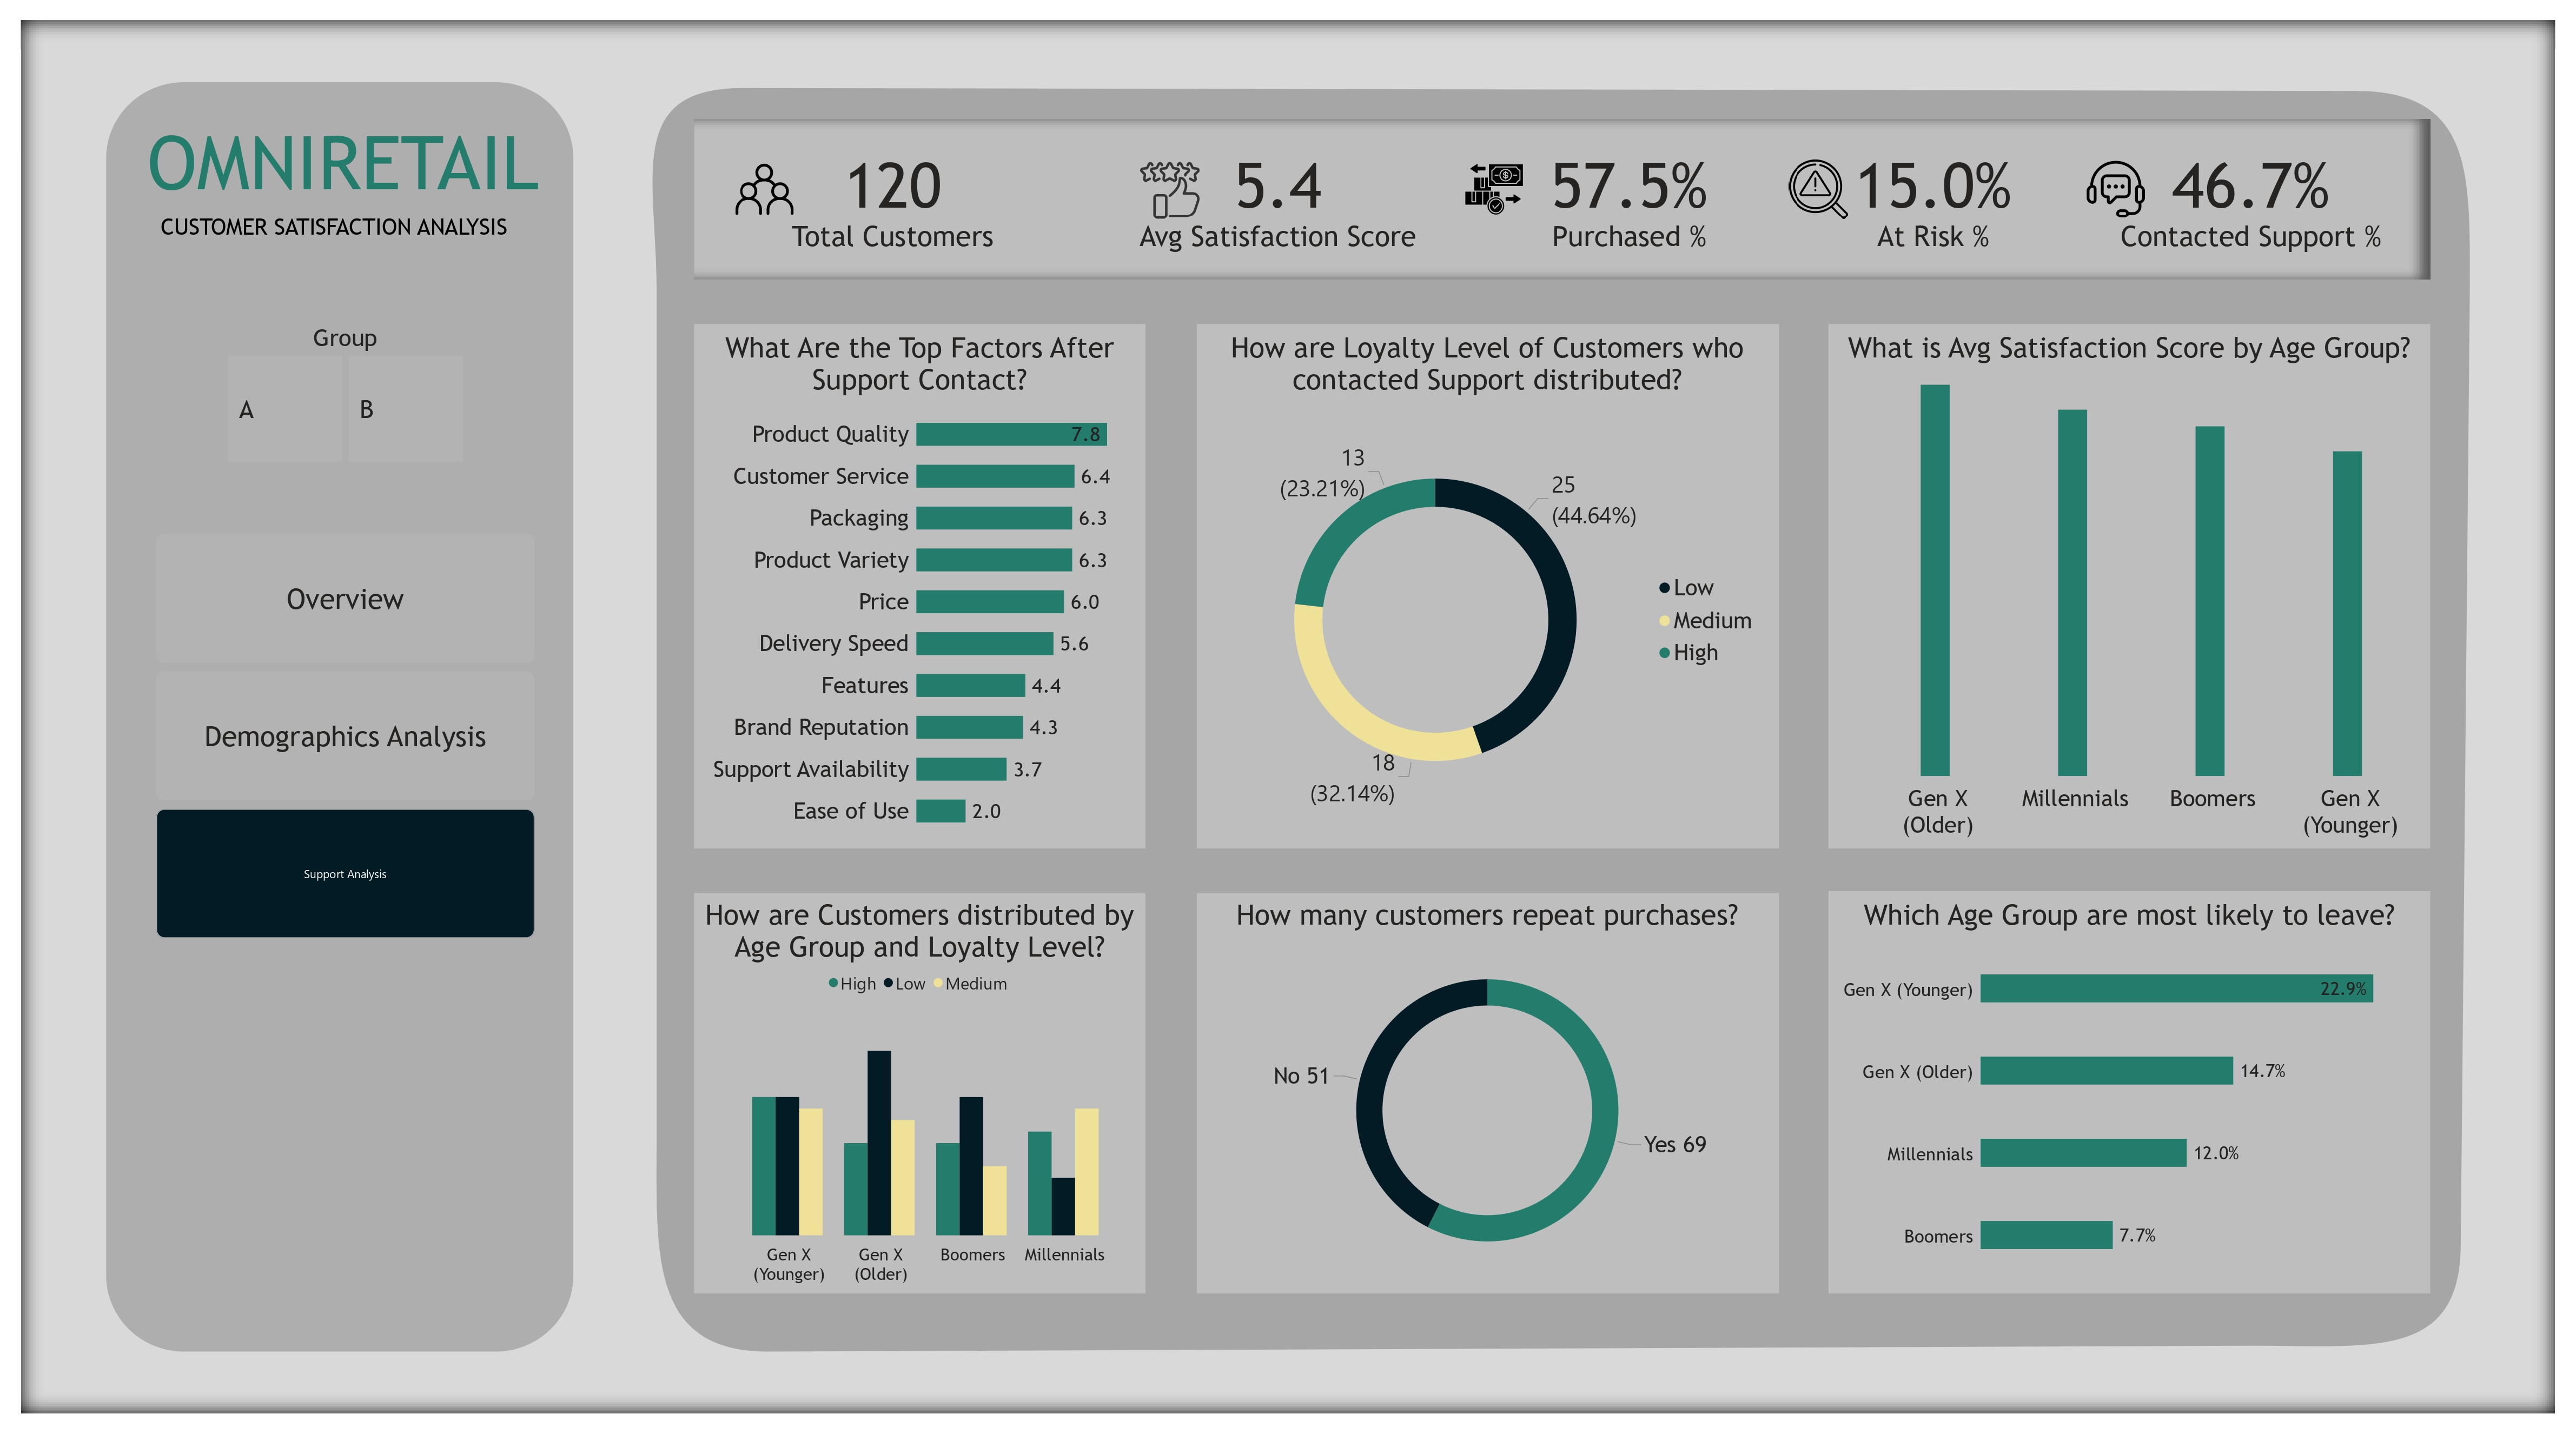

Layout of this report page (visuals, bound fields, positions):
{"tool":"powerbi","page":{"name":"Support Analysis","canvas":[3000,1650],"ordinal":2},"visuals":[{"type":"card","title":"Total Customers","fields":{"Values":["DAX.Total Customers"]},"box":[816,128,432,160],"z":0},{"type":"image","box":[832,160,96,80],"z":1000},{"type":"card","fields":{"Values":["DAX.Avg Satisfaction Score"]},"box":[1264,128,448,160],"z":2000},{"type":"image","box":[1312,160,96,80],"z":3000},{"type":"card","fields":{"Values":["DAX.Repeat Customer %"]},"box":[1744,128,320,160],"z":4000},{"type":"card","fields":{"Values":["DAX.% of Customers at Risk"]},"box":[2112,128,304,160],"z":5000},{"type":"card","fields":{"Values":["DAX.Contacted Support %"]},"box":[2432,128,416,160],"z":6000},{"type":"image","box":[2080,160,96,80],"z":7000},{"type":"image","box":[2432,160,96,80],"z":8000},{"type":"image","box":[1696,160,96,80],"z":9000},{"type":"barChart","title":"What Are the Top Factors After Support Contact?","fields":{"Category":["Satisfaction Factor.Satisfaction_Factor"],"Y":["DAX.Avg Satisfaction Score"]},"box":[800,368,528,608],"z":10000},{"type":"donutChart","title":"How are Loyalty Level of Customers who contacted  Support distributed?","fields":{"Category":["Loyalty Level.Loyalty_Level"],"Y":["DAX.Support Customers"]},"box":[1408,368,656,608],"z":11000},{"type":"columnChart","title":"What is Avg Satisfaction Score by Age Group?","fields":{"Category":["Customer Fact.Age Group"],"Y":["DAX.Avg Satisfaction Score"]},"box":[2144,368,704,608],"z":12000},{"type":"clusteredColumnChart","title":"How are Customers distributed by Age Group and Loyalty Level?","fields":{"Category":["Customer Fact.Age Group"],"Series":["Loyalty Level.Loyalty_Level"],"Y":["DAX.Total Customers"]},"box":[800,1040,528,464],"z":13000},{"type":"barChart","title":"Which Age Group are most likely to leave?","fields":{"Y":["DAX.% of Customers at Risk"],"Category":["Customer Fact.Age Group"]},"box":[2144,1040,704,464],"z":14000},{"type":"donutChart","title":"How many customers repeat purchases?","fields":{"Category":["Purchase History.Purchase_History"],"Y":["DAX.Total Customers"]},"box":[1408,1040,656,464],"z":15000},{"type":"textbox","box":[144,112,496,128],"z":16000},{"type":"textbox","box":[160,224,480,64],"z":17000},{"type":"pageNavigator","box":[160,608,448,480],"z":18000},{"type":"advancedSlicerVisual","fields":{"Values":["Group.Group"]},"box":[240,360,288,168],"z":19000}]}

Visuals, with their boxes on the page's 3000x1650 design canvas (x1, y1, x2, y2). These are canvas units, not pixel positions in the 2576x1434 screenshot, which may show the page scaled, cropped or inside an application window:
"Total Customers" card: x1=816 y1=128 x2=1248 y2=288
image: x1=832 y1=160 x2=928 y2=240
card - DAX.Avg Satisfaction Score: x1=1264 y1=128 x2=1712 y2=288
image: x1=1312 y1=160 x2=1408 y2=240
card - DAX.Repeat Customer %: x1=1744 y1=128 x2=2064 y2=288
card - DAX.% of Customers at Risk: x1=2112 y1=128 x2=2416 y2=288
card - DAX.Contacted Support %: x1=2432 y1=128 x2=2848 y2=288
image: x1=2080 y1=160 x2=2176 y2=240
image: x1=2432 y1=160 x2=2528 y2=240
image: x1=1696 y1=160 x2=1792 y2=240
"What Are the Top Factors After Support Contact?" barChart: x1=800 y1=368 x2=1328 y2=976
"How are Loyalty Level of Customers who contacted  Support distributed?" donutChart: x1=1408 y1=368 x2=2064 y2=976
"What is Avg Satisfaction Score by Age Group?" columnChart: x1=2144 y1=368 x2=2848 y2=976
"How are Customers distributed by Age Group and Loyalty Level?" clusteredColumnChart: x1=800 y1=1040 x2=1328 y2=1504
"Which Age Group are most likely to leave?" barChart: x1=2144 y1=1040 x2=2848 y2=1504
"How many customers repeat purchases?" donutChart: x1=1408 y1=1040 x2=2064 y2=1504
textbox: x1=144 y1=112 x2=640 y2=240
textbox: x1=160 y1=224 x2=640 y2=288
pageNavigator: x1=160 y1=608 x2=608 y2=1088
advancedSlicerVisual - Group.Group: x1=240 y1=360 x2=528 y2=528
